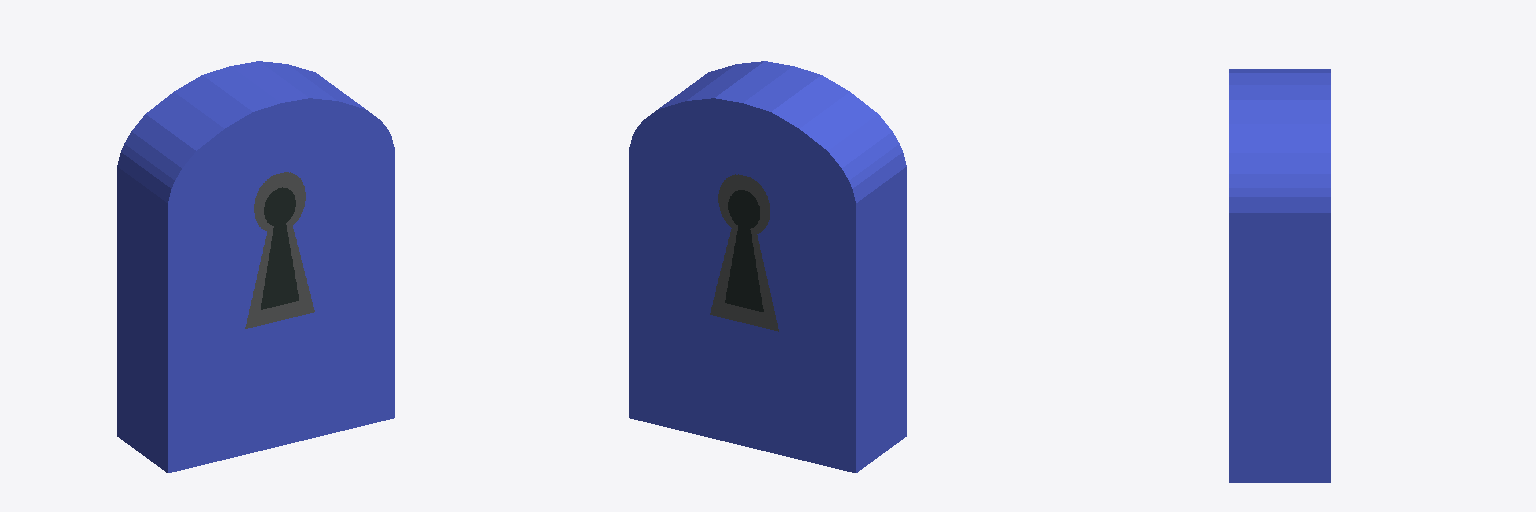
3 views of the same model, side by side, from view 1: azimuth 30°, elevation 25°; view 2: azimuth 150°, elevation 25°; view 3: azimuth 270°, elevation 25° (orthographic).
Visible parts, largest first — view 1: Cube; view 2: Cube; view 3: Cube.
Boxes of the visible parts, box(x1,y1,x2,y2) form: Cube: box(117, 61, 394, 472); Cube: box(629, 61, 906, 472); Cube: box(1229, 69, 1330, 482).
Size of the model in its own units: 2 by 2.89 by 0.7747.
Materials: 1 (1 with a texture image).